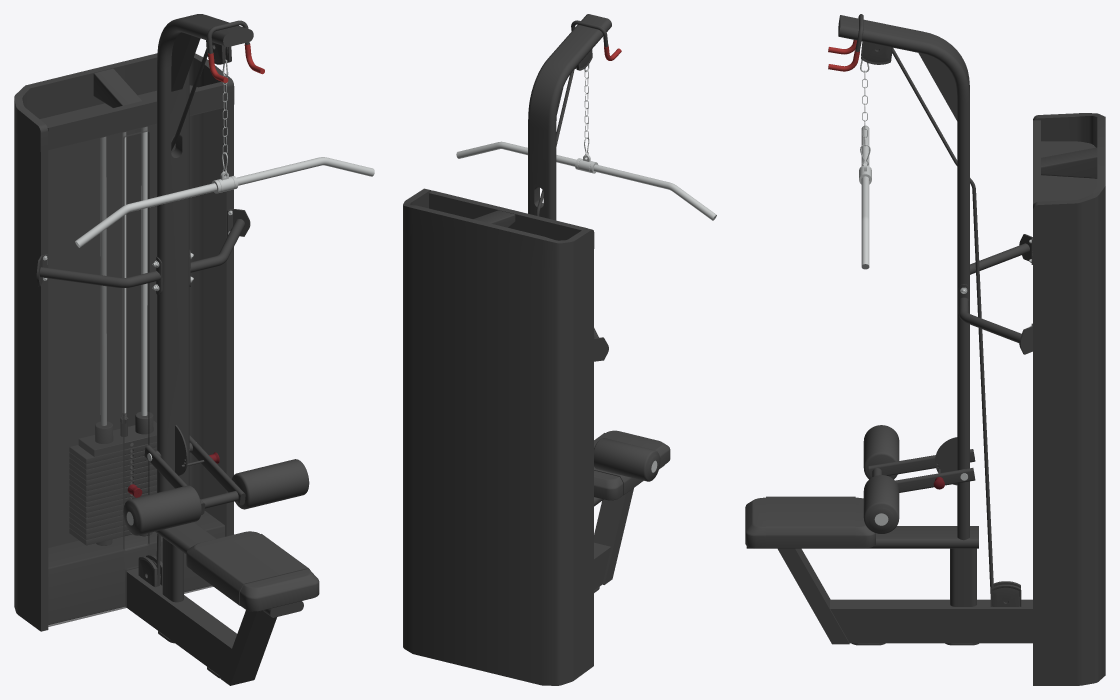
File: Megafitness_94007.glb
3 renders of one model, left to right at view 1: azimuth 30°, elevation 25°; view 2: azimuth 150°, elevation 25°; view 3: azimuth 270°, elevation 25°, orthographic. The views are drawn at different scales.
Parts seen in each view (by area): view 1: Cube.012, Cube.031, Circle.059, M101_pasted__polySurface36.001, M101_pasted__polySurface67.001, Cube.018, Cube.005, Cube.004, Cube.009, Cylinder001, Cylinder.002, Cylinder.026 (+16 smaller); view 2: Cube.012, Cube.005, Circle.059, Cube.009, Cylinder.002, Cylinder001, Cube.018, Cube.007, Cube.004; view 3: Cube.012, Circle.059, Cube.004, Cube.018, Cube.005, Circle.036, Cube.007, Circle.060, Cube.026, Cylinder.026, Circle.002, M101_pasted__polySurface67.003 (+12 smaller).
Boxes of the visible parts, left/top/right/bottom form: Cube.012: left=14, top=105, right=233, bottom=631; Cube.031: left=48, top=107, right=226, bottom=626; Circle.059: left=157, top=14, right=253, bottom=492; M101_pasted__polySurface36.001: left=69, top=421, right=156, bottom=545; M101_pasted__polySurface67.001: left=48, top=511, right=224, bottom=624; Cube.018: left=186, top=531, right=319, bottom=611; Cube.005: left=14, top=53, right=234, bottom=151; Cube.004: left=126, top=568, right=236, bottom=676; Cube.009: left=46, top=81, right=226, bottom=149; Cylinder001: left=75, top=157, right=374, bottom=247; Cylinder.002: left=123, top=485, right=201, bottom=535; Cylinder.026: left=231, top=459, right=309, bottom=509; Cube.012: left=403, top=231, right=593, bottom=685; Cube.005: left=403, top=188, right=594, bottom=268; Circle.059: left=528, top=14, right=611, bottom=220; Cube.009: left=429, top=190, right=585, bottom=240; Cylinder.002: left=594, top=438, right=660, bottom=481; Cylinder001: left=456, top=141, right=716, bottom=220; Cube.018: left=594, top=430, right=670, bottom=500; Cube.007: left=594, top=488, right=633, bottom=584; Cube.004: left=594, top=542, right=610, bottom=590; Cube.012: left=1033, top=218, right=1105, bottom=685; Circle.059: left=838, top=15, right=969, bottom=540; Cube.004: left=830, top=599, right=1032, bottom=643; Cube.018: left=745, top=496, right=875, bottom=548; Cube.005: left=1033, top=113, right=1105, bottom=227; Circle.036: left=892, top=48, right=993, bottom=593; Cube.007: left=778, top=548, right=849, bottom=644; Circle.060: left=746, top=526, right=978, bottom=548; Cube.026: left=1041, top=141, right=1097, bottom=201; Cylinder.026: left=863, top=475, right=899, bottom=533; Circle.002: left=950, top=548, right=976, bottom=606; M101_pasted__polySurface67.003: left=1041, top=147, right=1097, bottom=178.
Size of the model in its own units: 1.09 by 2.29 by 1.2.
2 materials, 1 textured.
